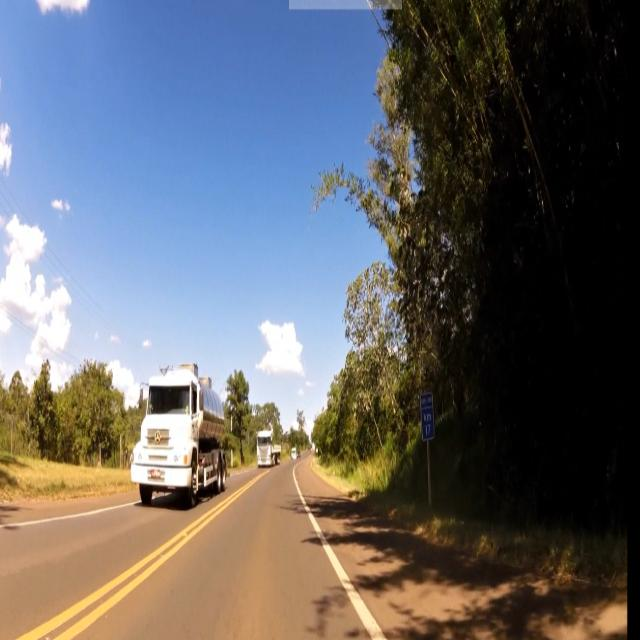RQ: (420, 396, 435, 442)
